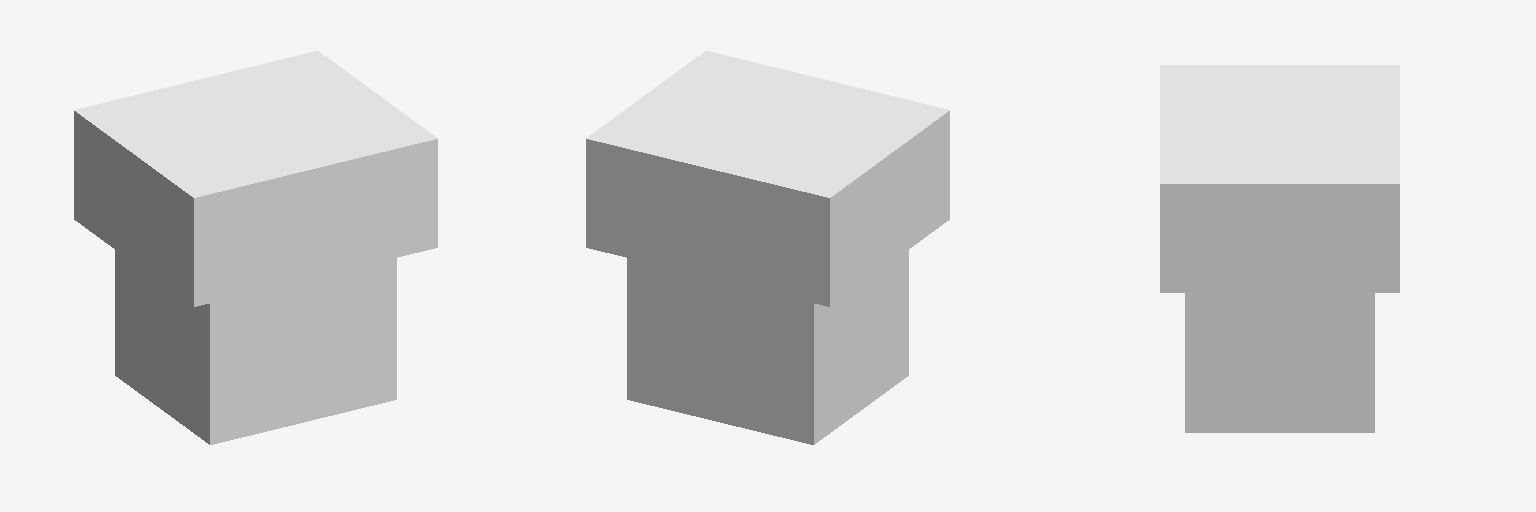
The model's file is ogre-1.obj.
3 renders of one model, left to right at view 1: azimuth 30°, elevation 25°; view 2: azimuth 150°, elevation 25°; view 3: azimuth 270°, elevation 25°, orthographic.
Parts seen in each view (by area): view 1: object 1; view 2: object 1; view 3: object 1.
Boxes of the visible parts, x1,y1,x2,y2 form: object 1: [74, 51, 437, 444]; object 1: [586, 51, 949, 444]; object 1: [1160, 65, 1399, 432].
Size of the model in its own units: 6.8 by 7 by 5.8.